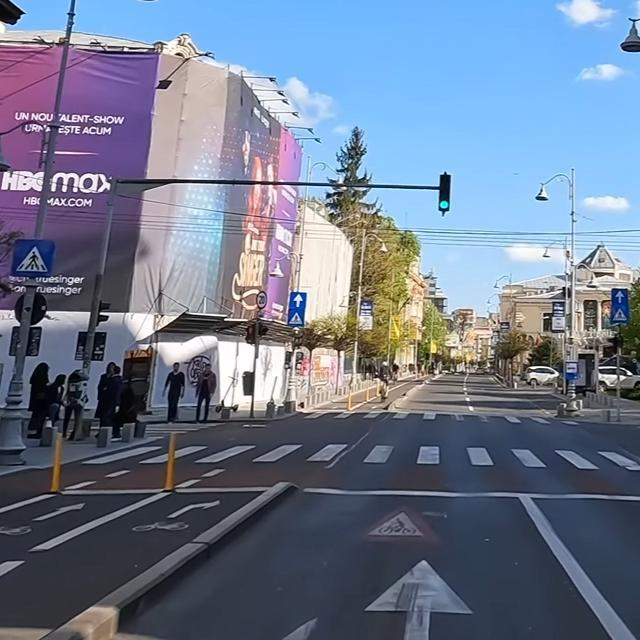info_crosswalk: (10, 237, 55, 276), (610, 305, 629, 324), (287, 309, 305, 328)
